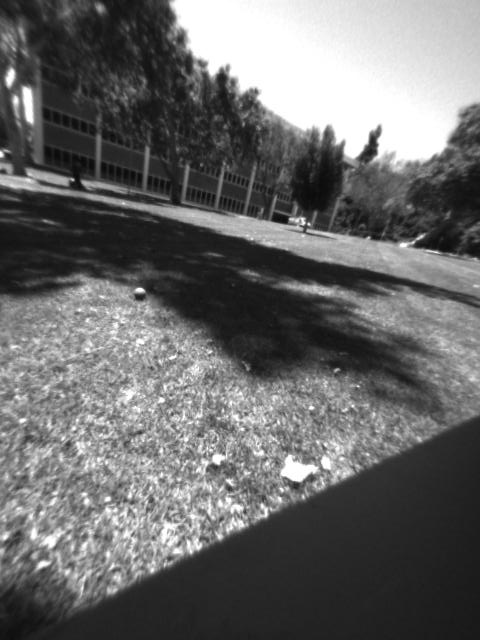dogtoy: (124, 280, 158, 308)
